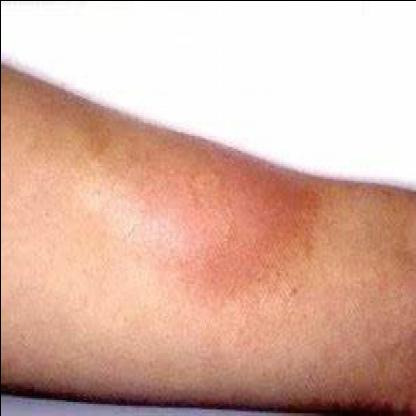Wasp: (143, 159, 307, 283)
